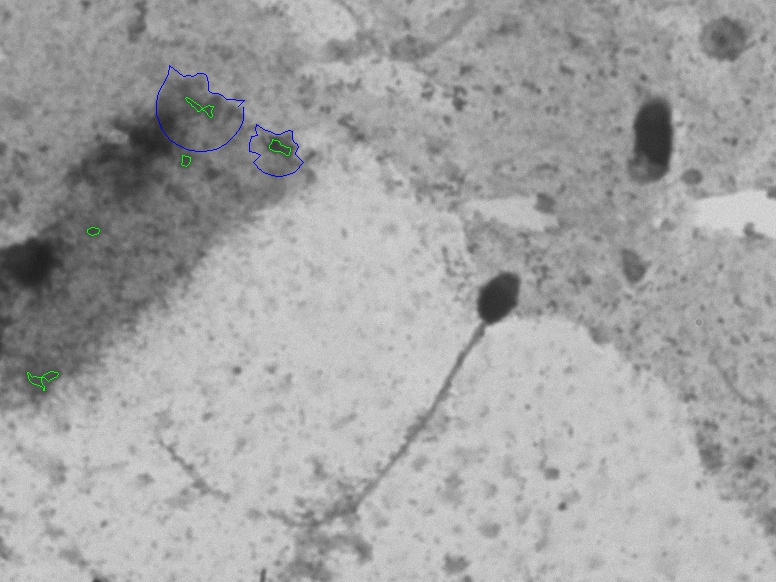Abnormal: (247, 239, 539, 549)
